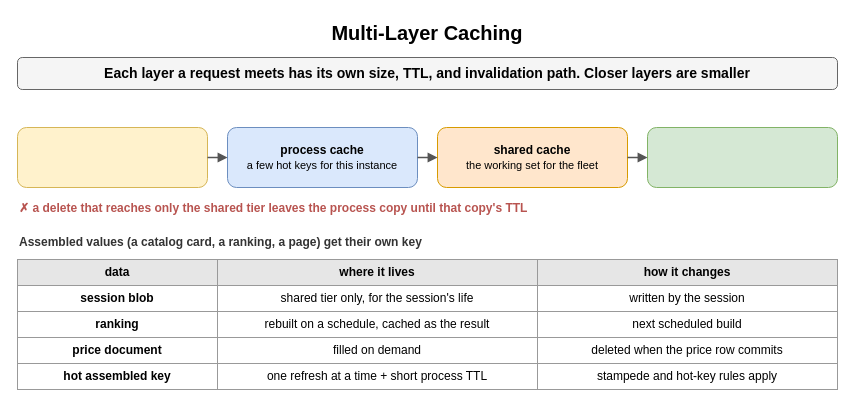
This 855x407 diagram has some shape labels left out. The box of each missing label's shape, as (x1, y1, x2, y2) in pixels:
database the durable row: (646, 126, 838, 188)
request map dies with the response: (16, 126, 208, 188)
